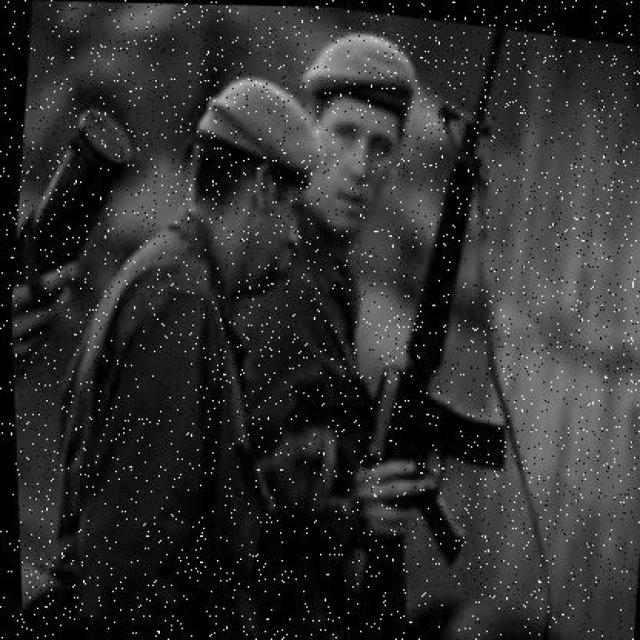weapon: (348, 25, 512, 638)
